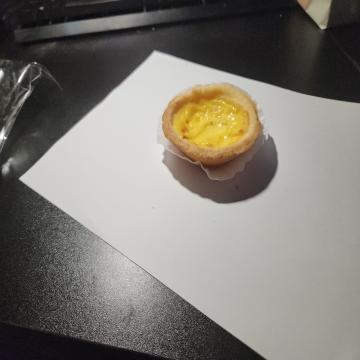EggTart: (162, 80, 262, 166)
